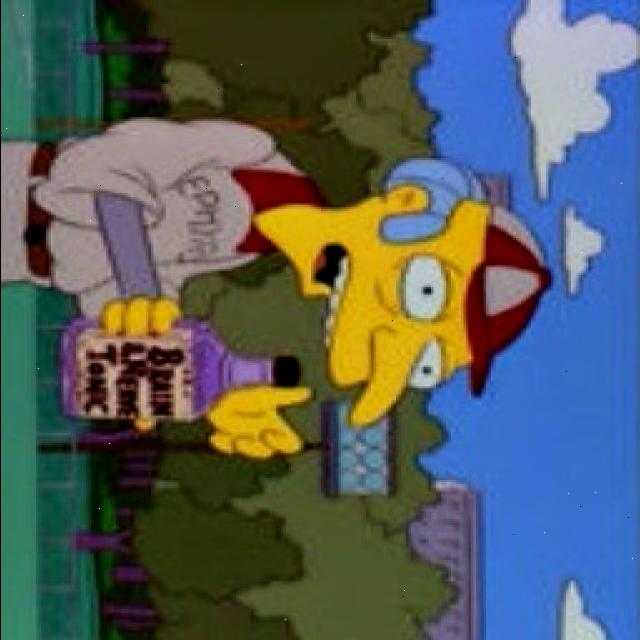Charles Montgomery Burns: (254, 148, 496, 433)
